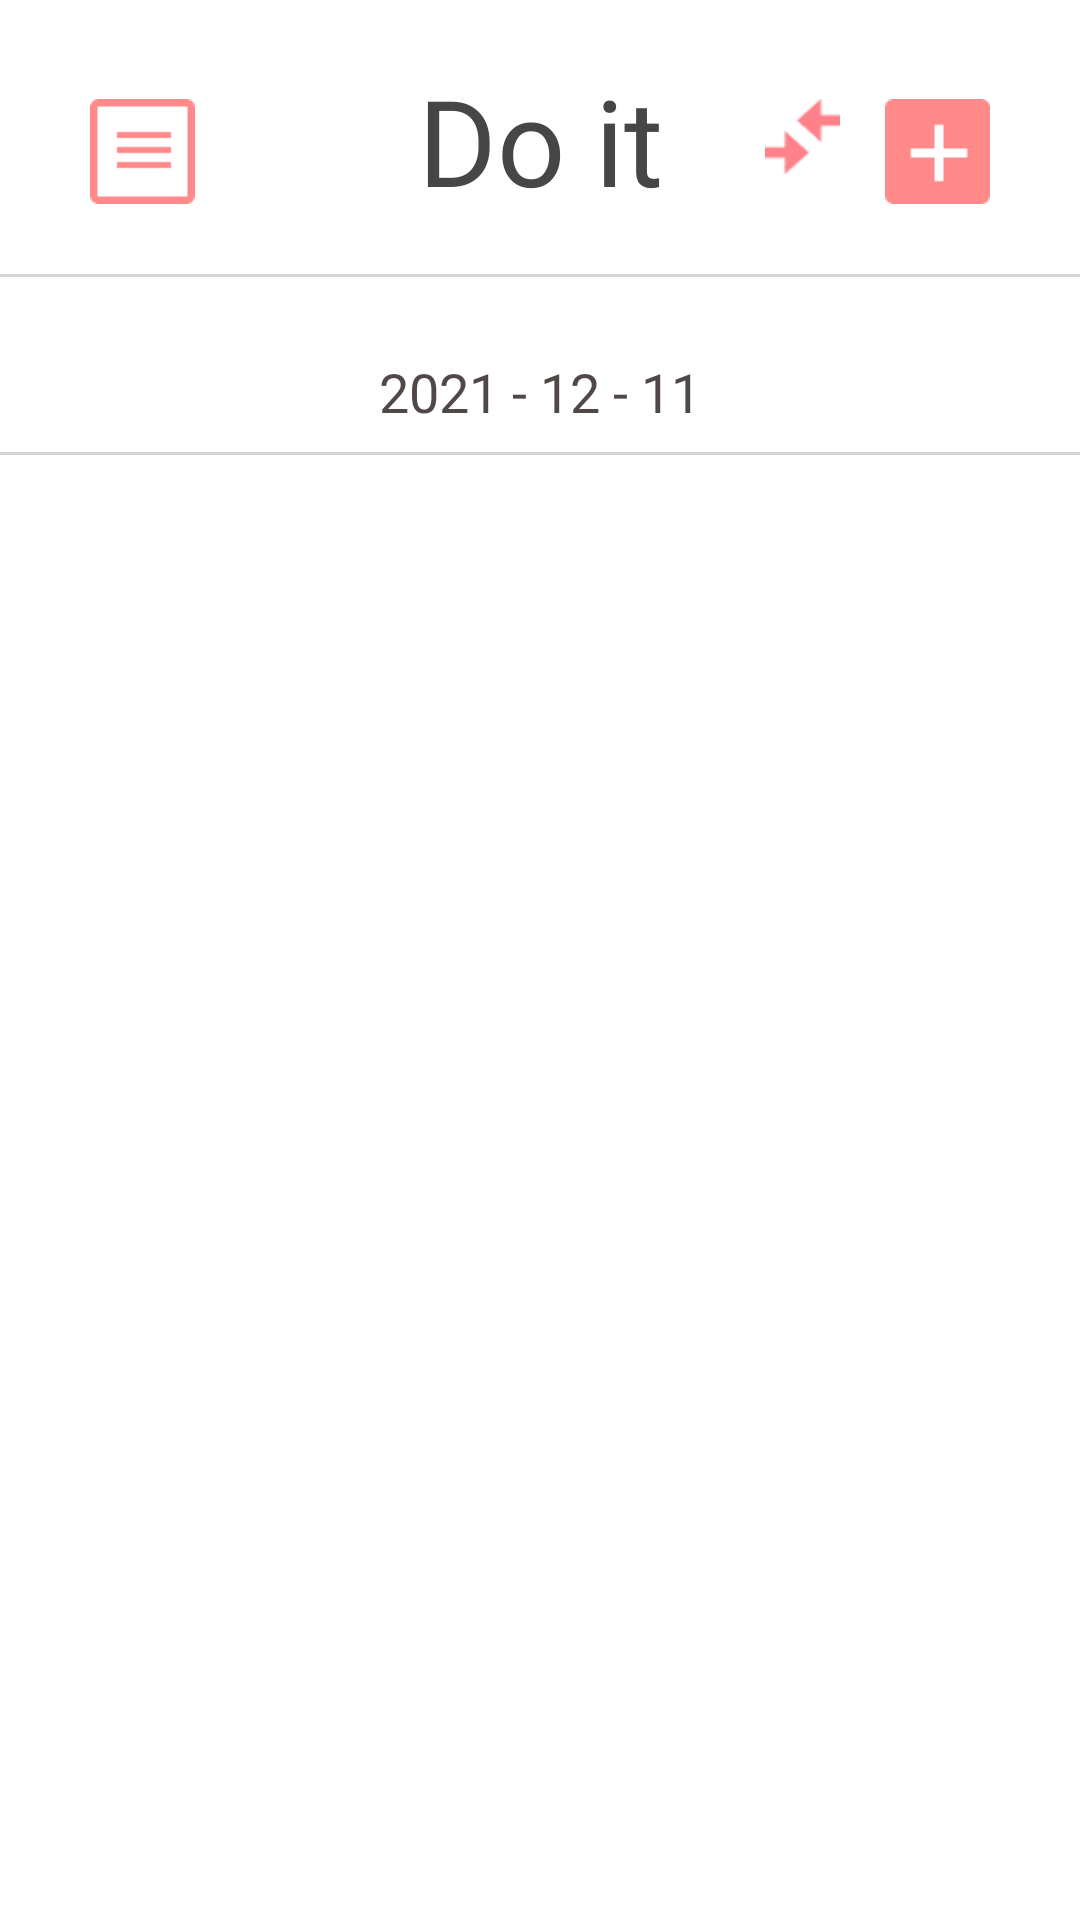

Icon click points for this 1080w x 1920h phone screenshot, format (x=x, y=y):
week change: (x=802, y=136)
